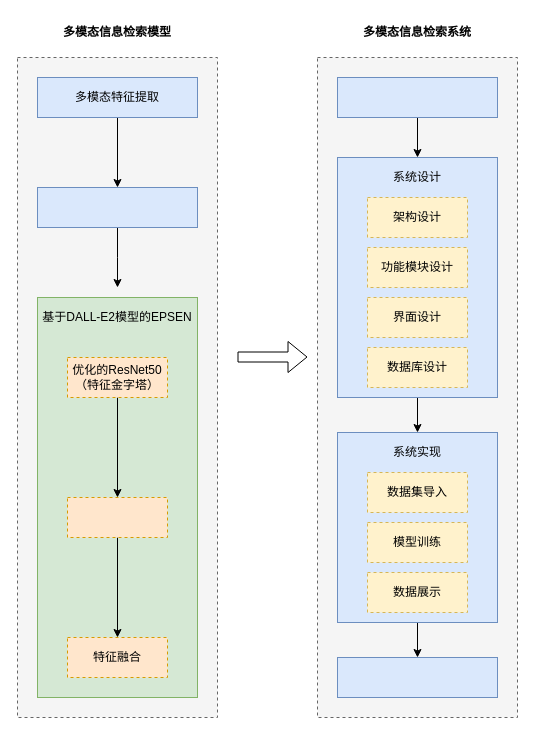
The diagram is 535 pixels wide and 735 high, and some of its shapes have lost their labels. The box of each missing label's shape, as (x1, y1, x2, y2) in pixels:
多模态信息检索系统需求分析: (336, 76, 498, 118)
模态语义关系学习: (36, 186, 198, 228)
深度语义嵌入: (66, 496, 168, 538)
系统测试: (336, 656, 498, 698)
